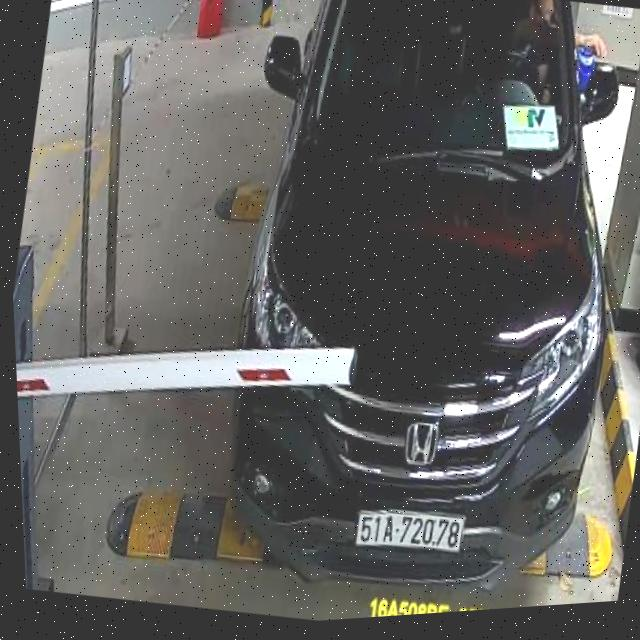car: (169, 0, 640, 629)
plate: (355, 499, 467, 560)
